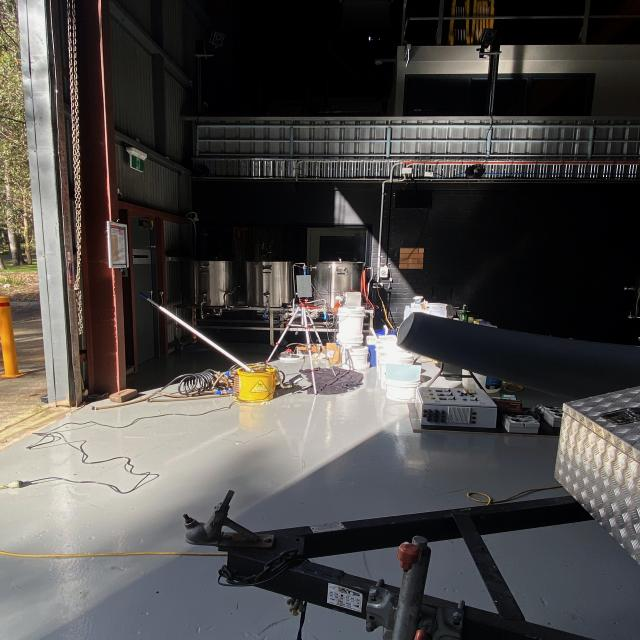matrix: (296, 272, 314, 300)
